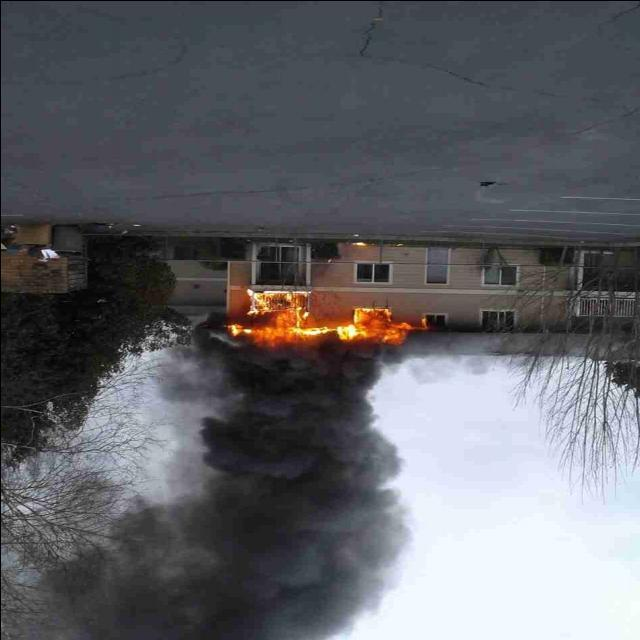Fire: (205, 282, 422, 358)
